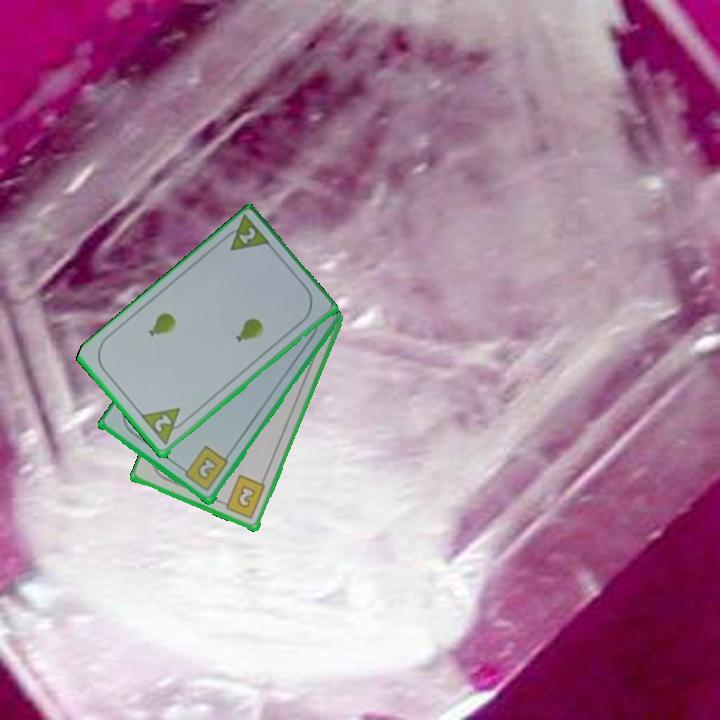2b: (177, 443, 231, 494), (217, 472, 268, 522)
2p: (218, 212, 274, 255), (150, 411, 175, 435)
